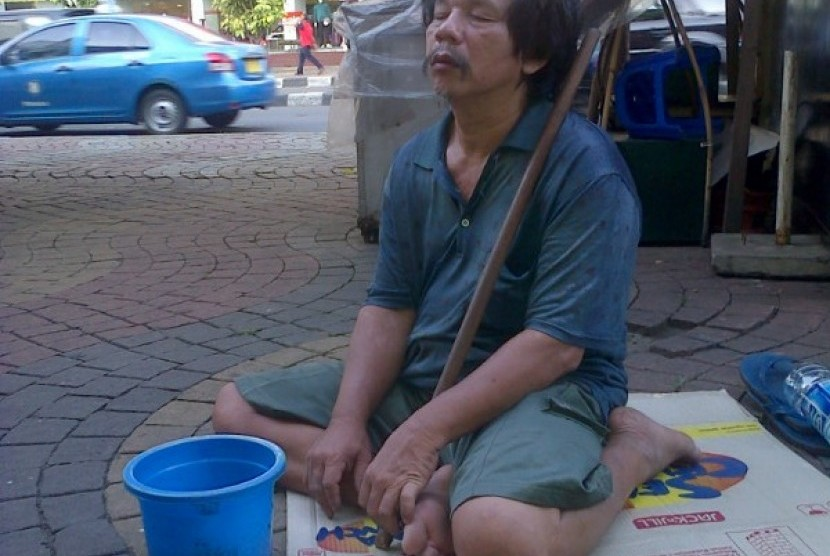gelandangan: (227, 1, 743, 547)
